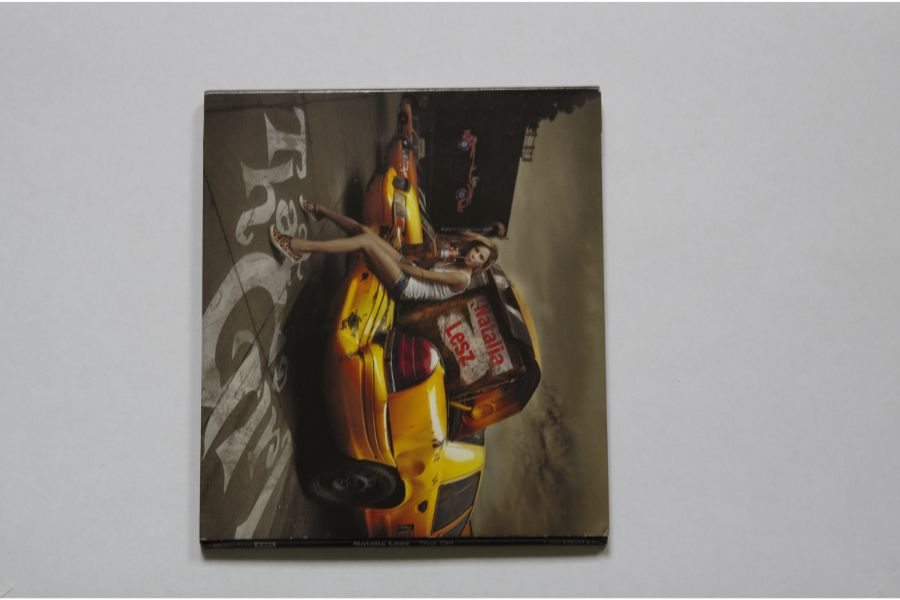album: (194, 86, 608, 552)
